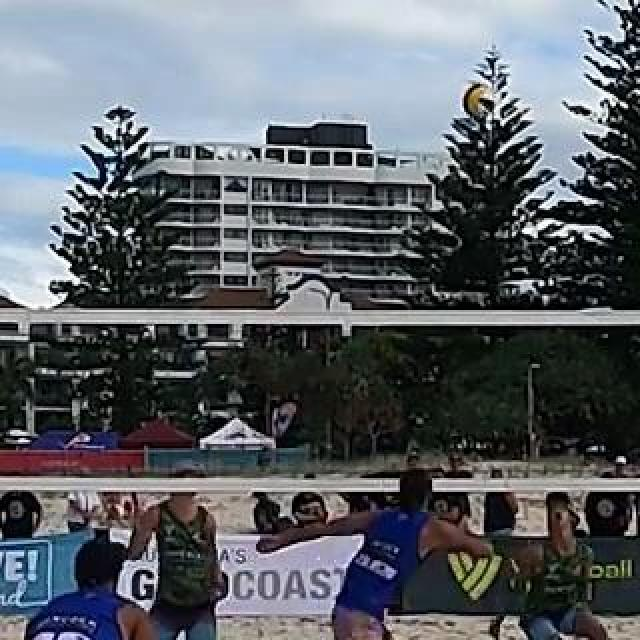volleyball: (460, 82, 494, 116)
